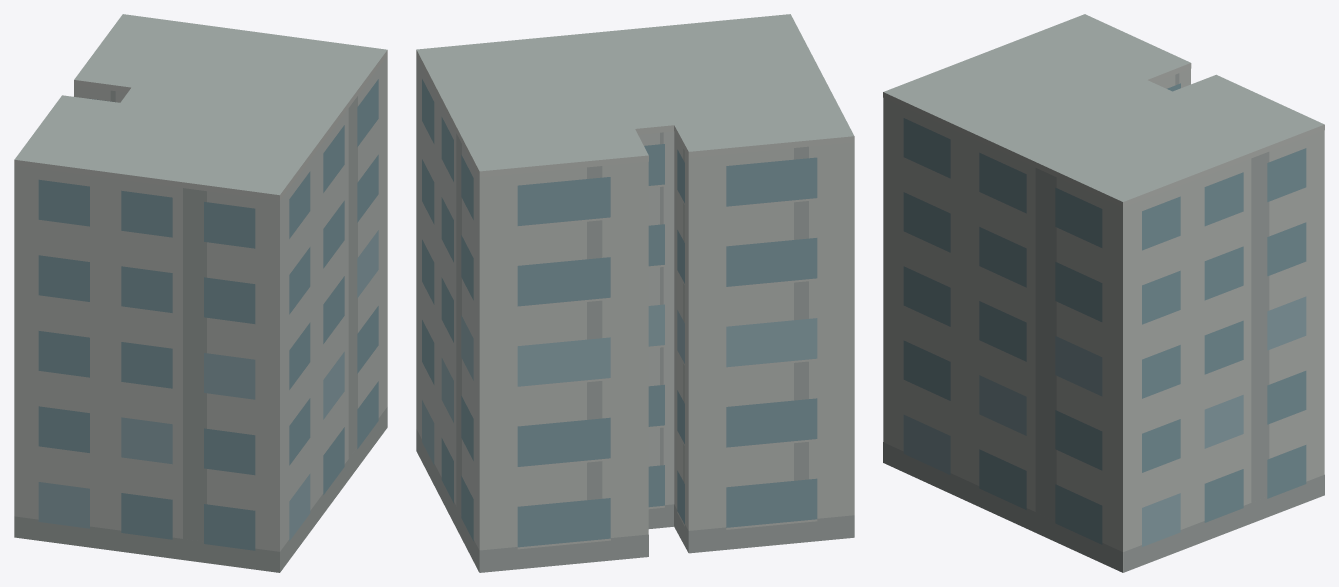
The model's file is survey-upis-32840178.glb.
3 renders of one model, left to right at view 1: azimuth 30°, elevation 25°; view 2: azimuth 150°, elevation 25°; view 3: azimuth 270°, elevation 25°, orthographic. The views are drawn at different scales.
Parts seen in each view (by area): view 1: survey-upis-32840178.tmp; view 2: survey-upis-32840178.tmp; view 3: survey-upis-32840178.tmp.
Part boxes in pixels (bbox=[...]): survey-upis-32840178.tmp: bbox=[14, 14, 387, 572]; survey-upis-32840178.tmp: bbox=[416, 14, 854, 572]; survey-upis-32840178.tmp: bbox=[883, 14, 1324, 572].
Size of the model in its own units: 17.31 by 15.9 by 17.17.
